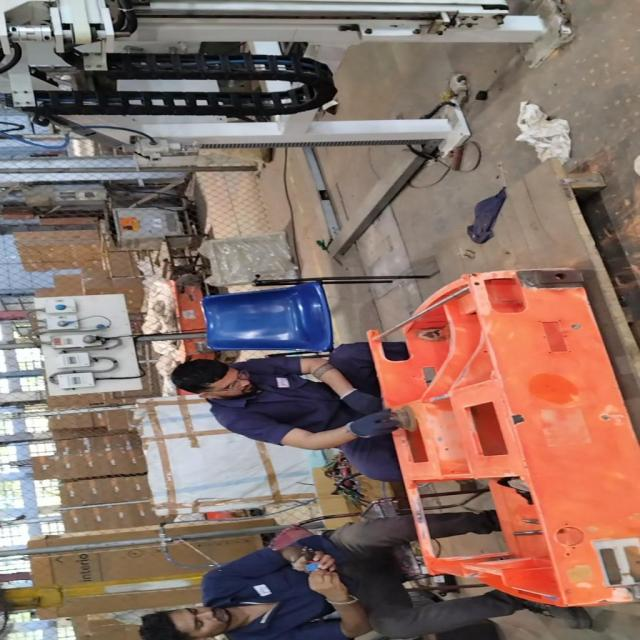Gloves-Detection: (331, 383, 407, 440)
